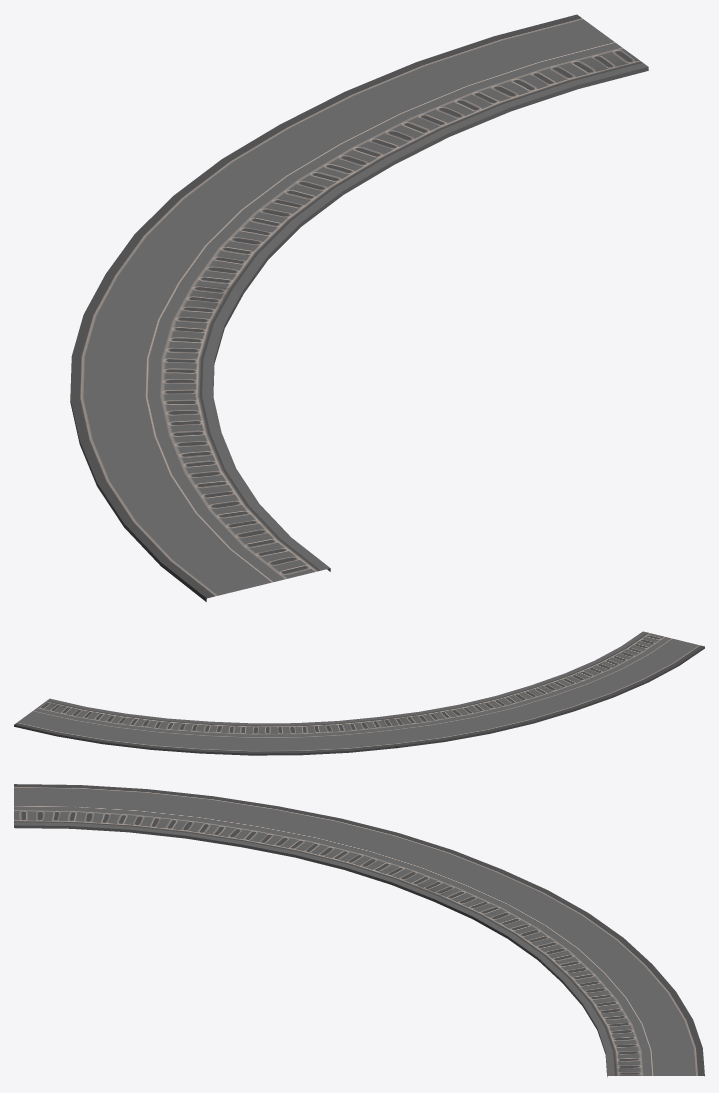
File: BottomMetal_Corner_Round_Outer.gltf
3 views of the same model, one above another, from view 1: azimuth 30°, elevation 25°; view 2: azimuth 150°, elevation 25°; view 3: azimuth 270°, elevation 25° (orthographic). The views are drawn at different scales.
Visible parts, largest first — view 1: BottomMetal_Corner_Round_Outer; view 2: BottomMetal_Corner_Round_Outer; view 3: BottomMetal_Corner_Round_Outer.
Part boxes in pixels (<box>): BottomMetal_Corner_Round_Outer: <box>70,14,648,601</box>; BottomMetal_Corner_Round_Outer: <box>14,631,704,755</box>; BottomMetal_Corner_Round_Outer: <box>14,784,704,1077</box>.
Bounding box in the file's own units: 4.6 × 0.02 × 4.6.
2 materials, 2 textured.
